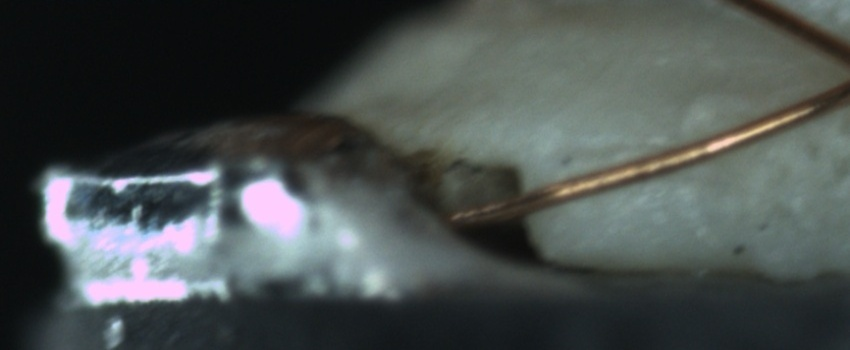DL: (558, 121, 699, 182)
